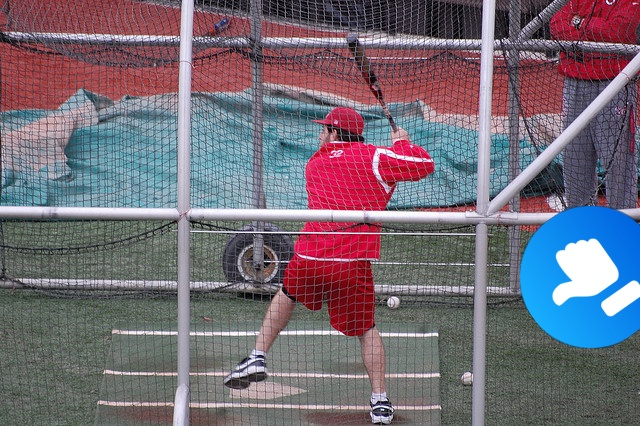like: (520, 206, 640, 348)
